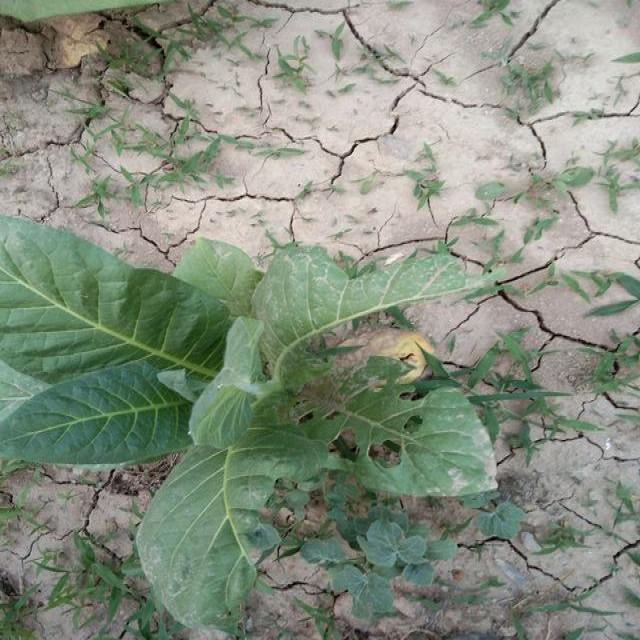crop: (1, 180, 503, 620)
